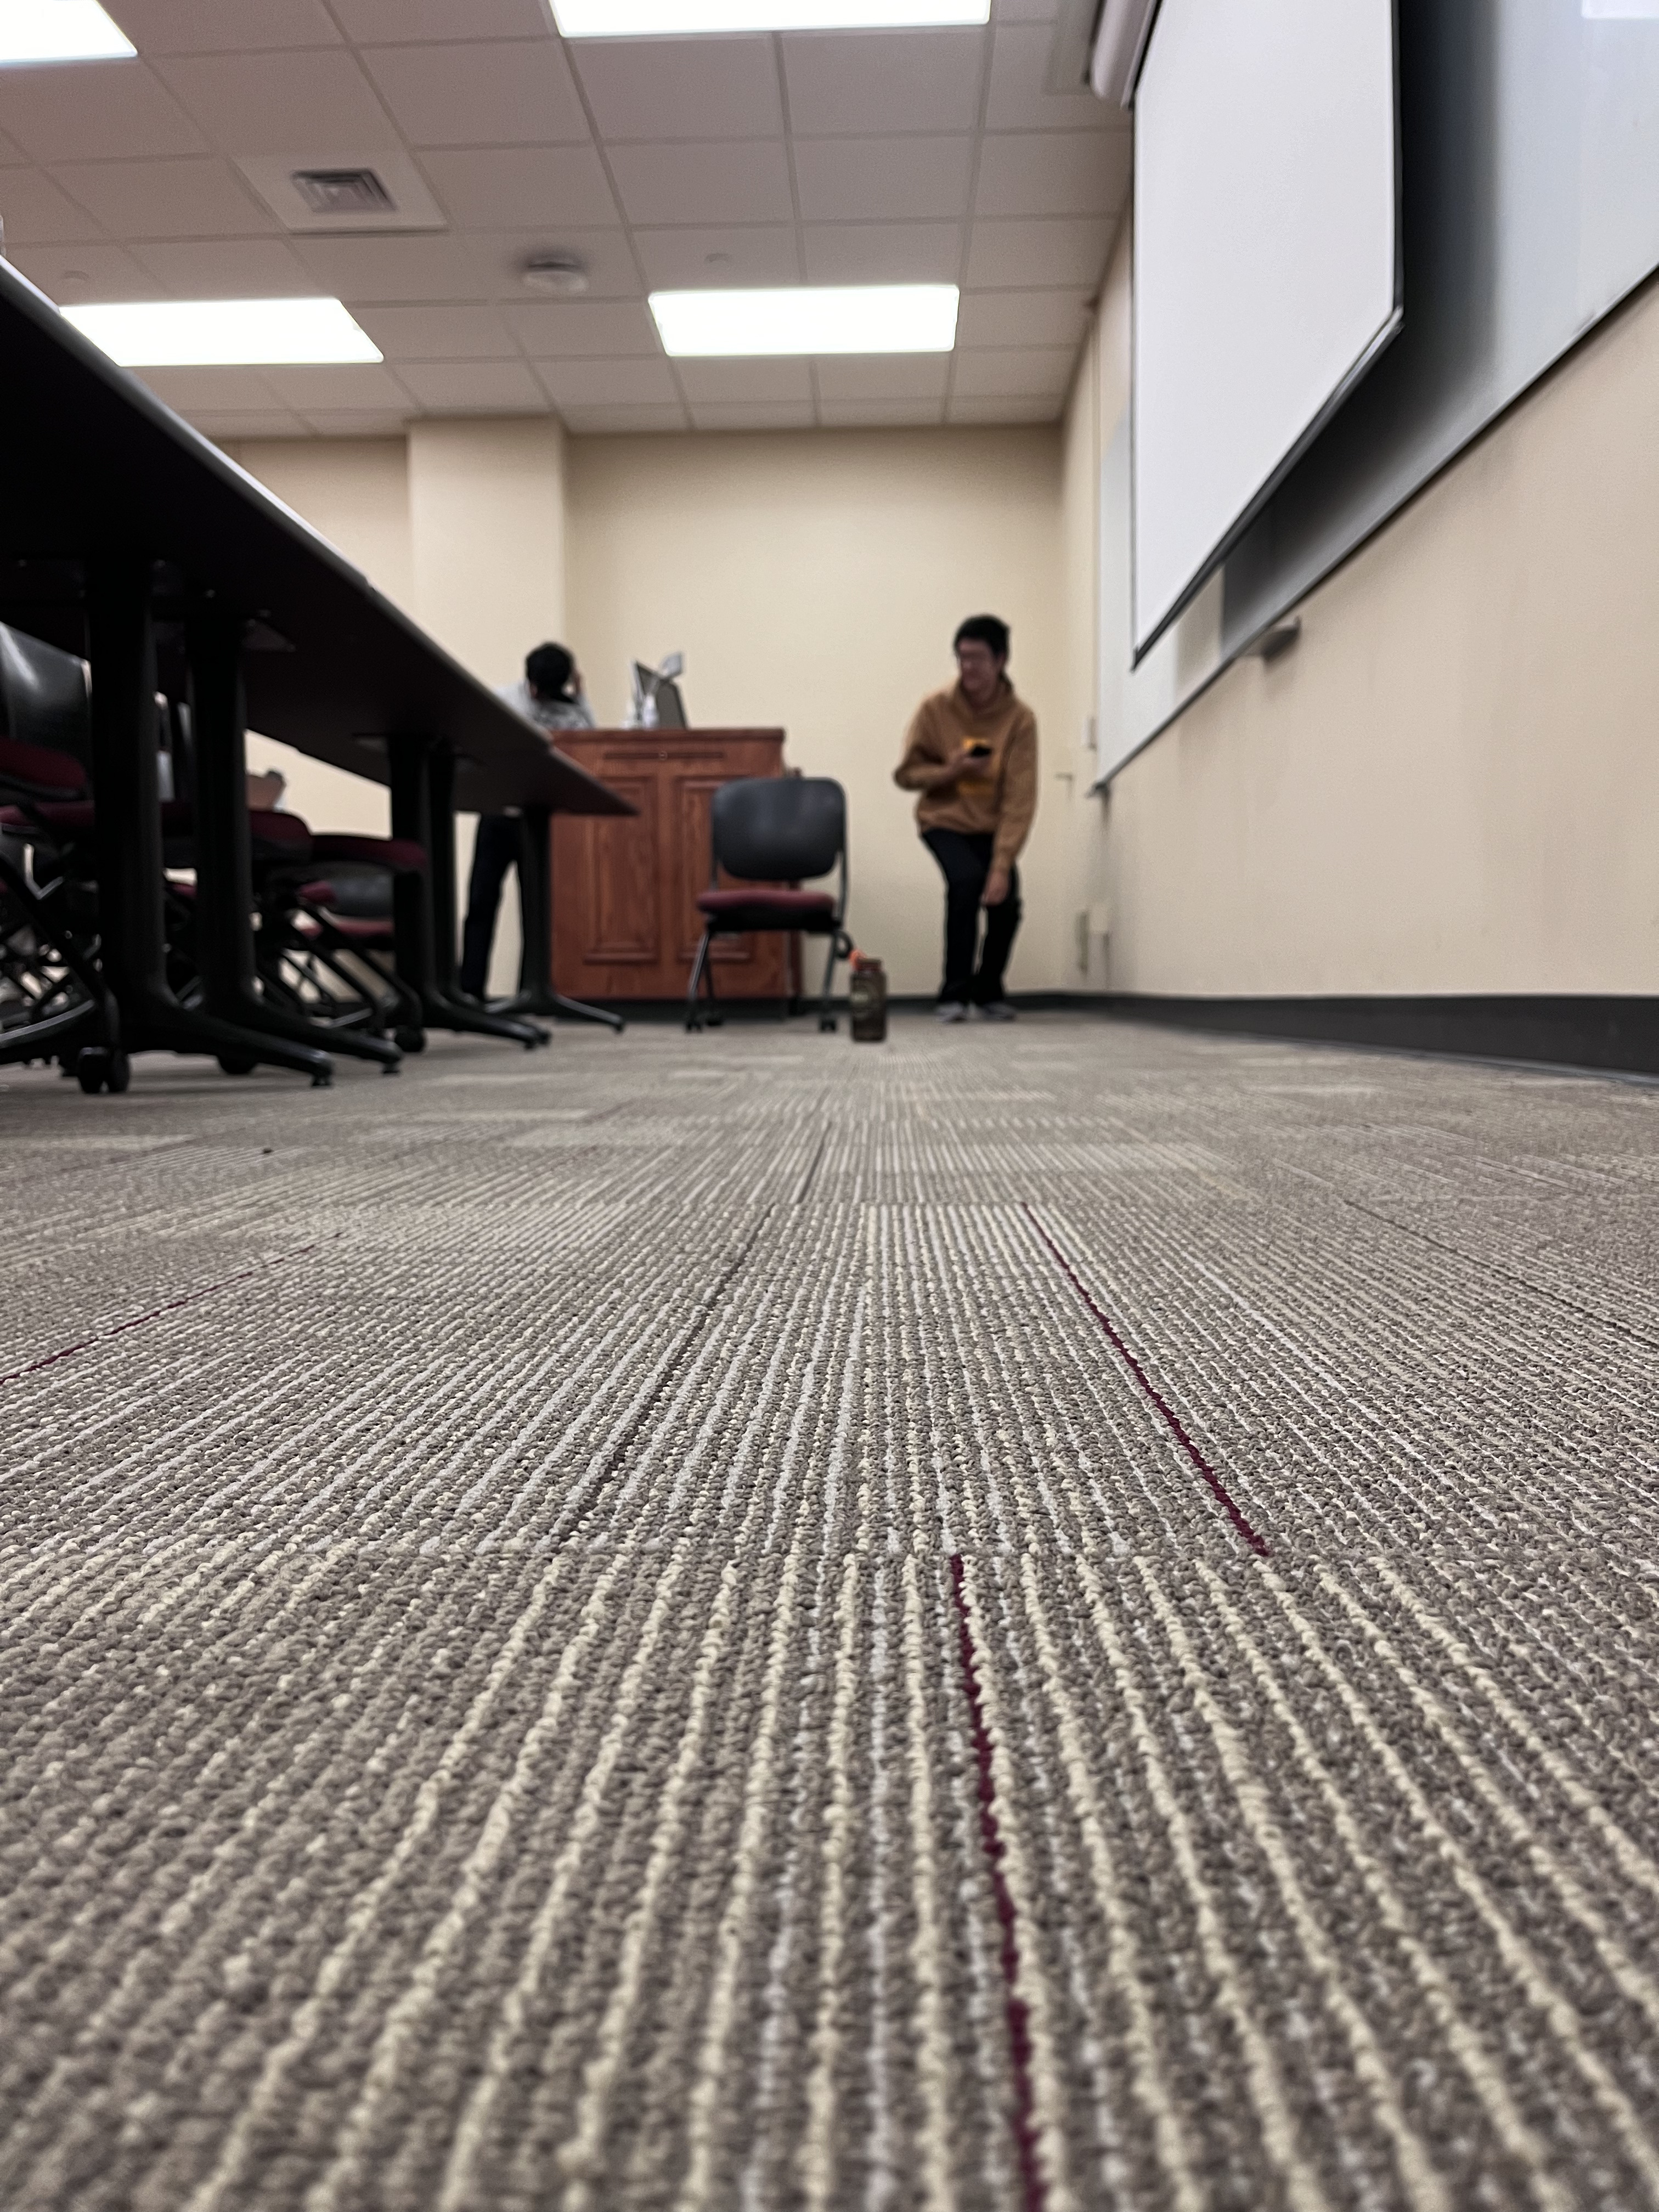bottle: (843, 932, 892, 1054)
